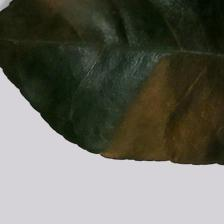healthy: (0, 0, 222, 164)
